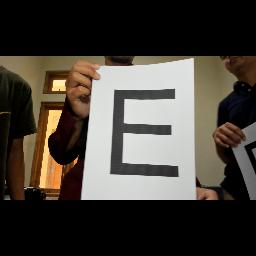e: (106, 84, 182, 186)
